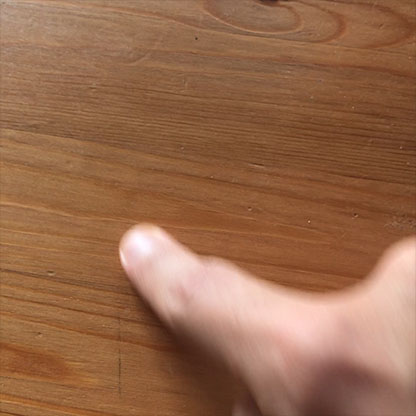fingertip: (111, 215, 171, 272)
